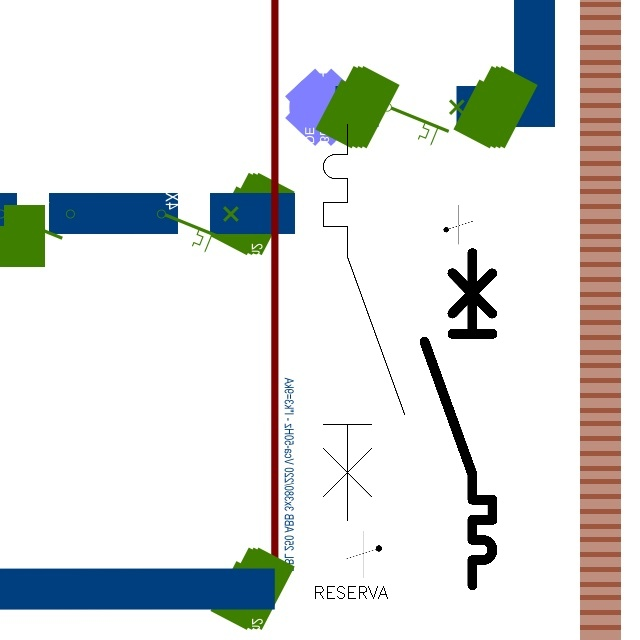interruptor_termomagnetico: (313, 114, 415, 531), (416, 244, 501, 593)
